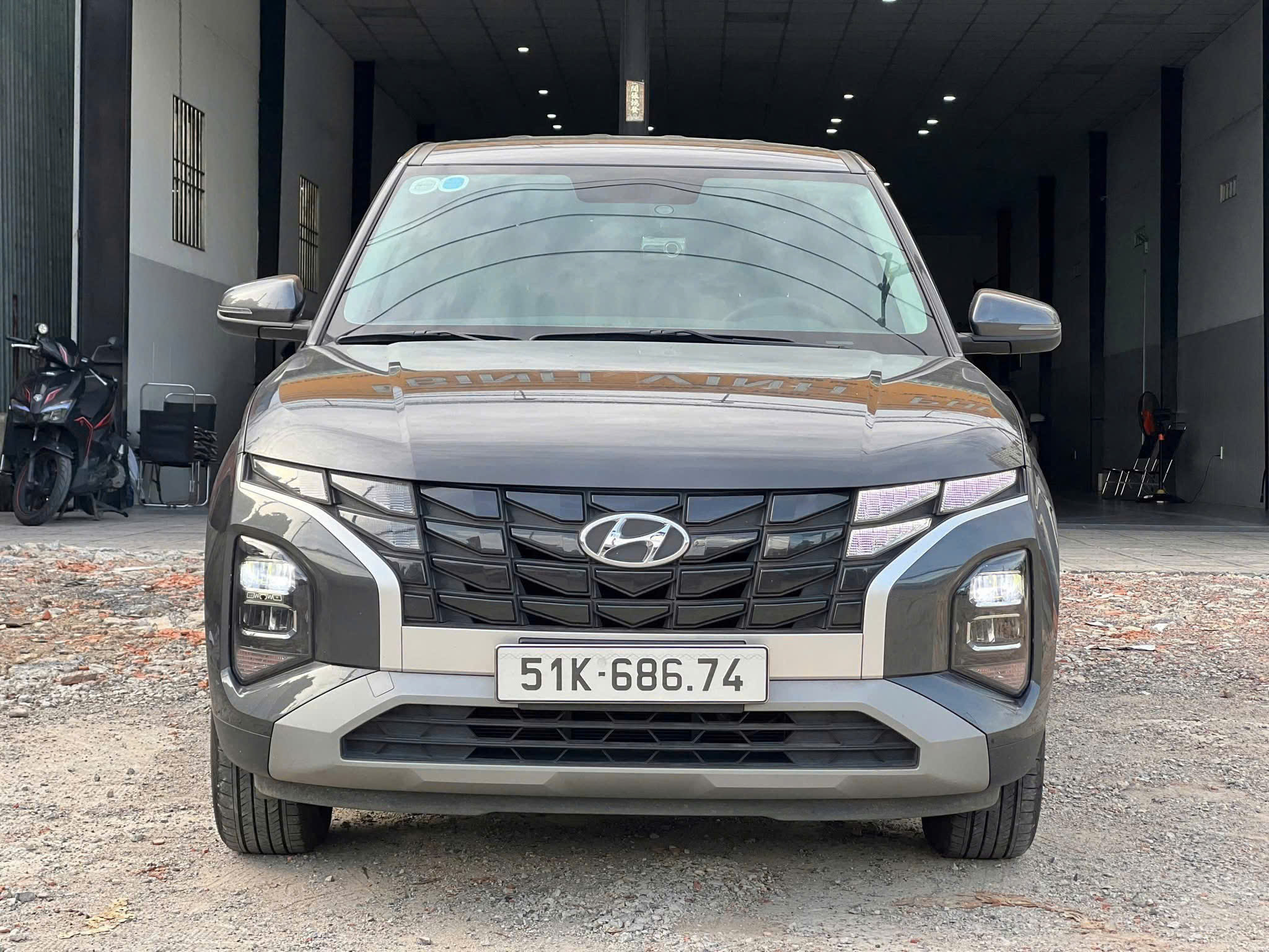Bien-so: (492, 641, 773, 703)
